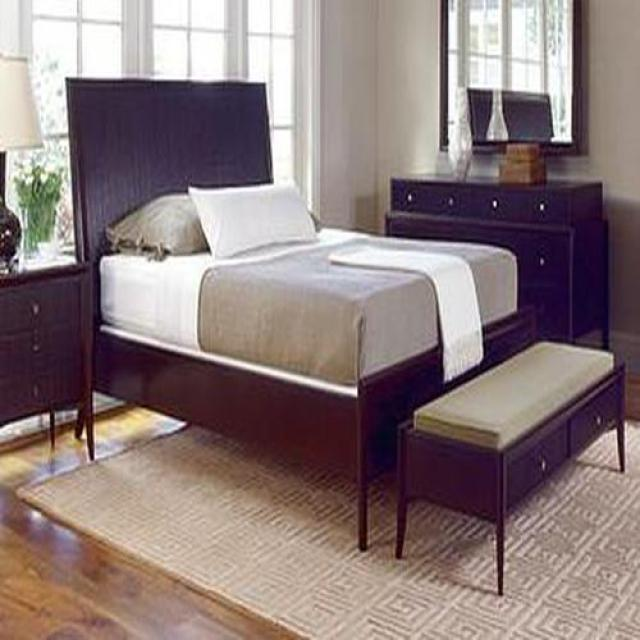bed: (65, 78, 517, 552)
